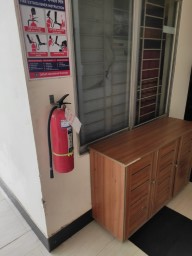fire_extinguisher: (70, 156, 134, 191)
